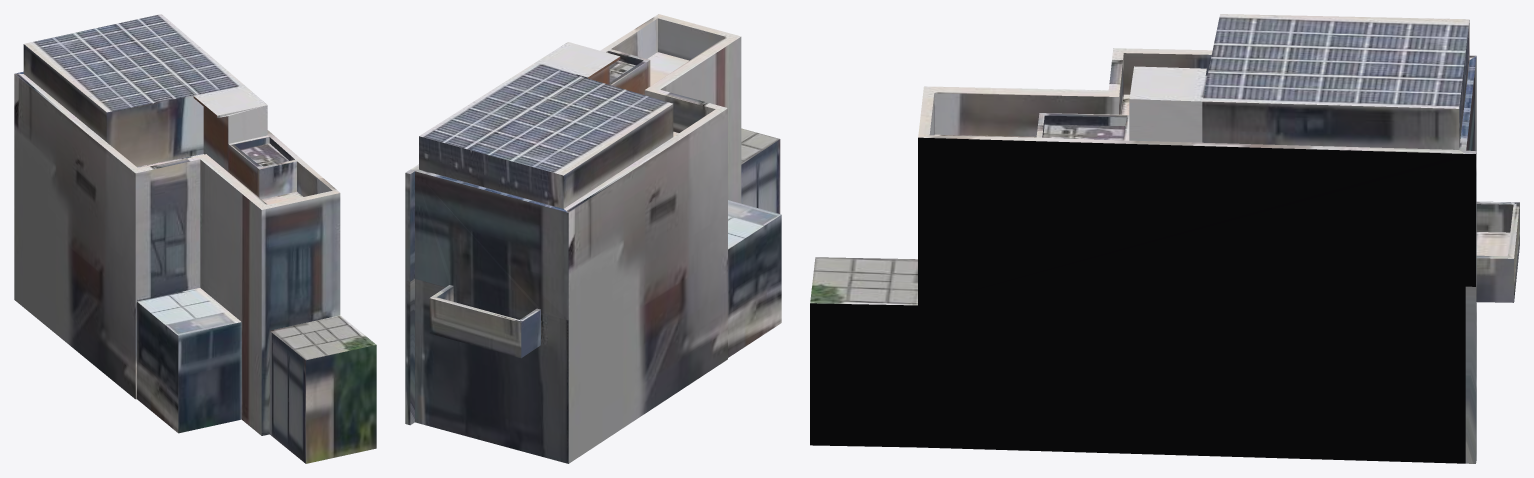
3 views of the same model, side by side, from view 1: azimuth 30°, elevation 25°; view 2: azimuth 150°, elevation 25°; view 3: azimuth 270°, elevation 25° (orthographic). The views are drawn at different scales.
Visible parts, largest first — view 1: B284484037401062A0; view 2: B284484037401062A0; view 3: B284484037401062A0.
Boxes of the visible parts, box(x1,y1,x2,y2) form: B284484037401062A0: box(14, 14, 376, 463); B284484037401062A0: box(405, 14, 781, 463); B284484037401062A0: box(810, 14, 1519, 463).
Bounding box in the file's own units: 6.9 × 10.49 × 19.2.
1 material, 1 textured.
